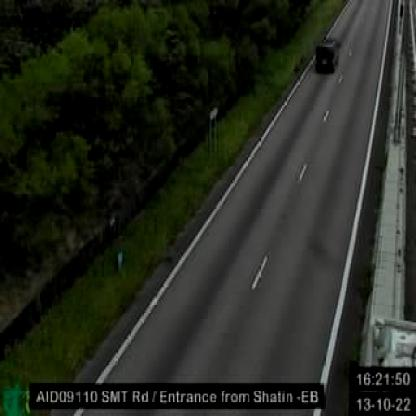Car: (315, 37, 341, 71)
